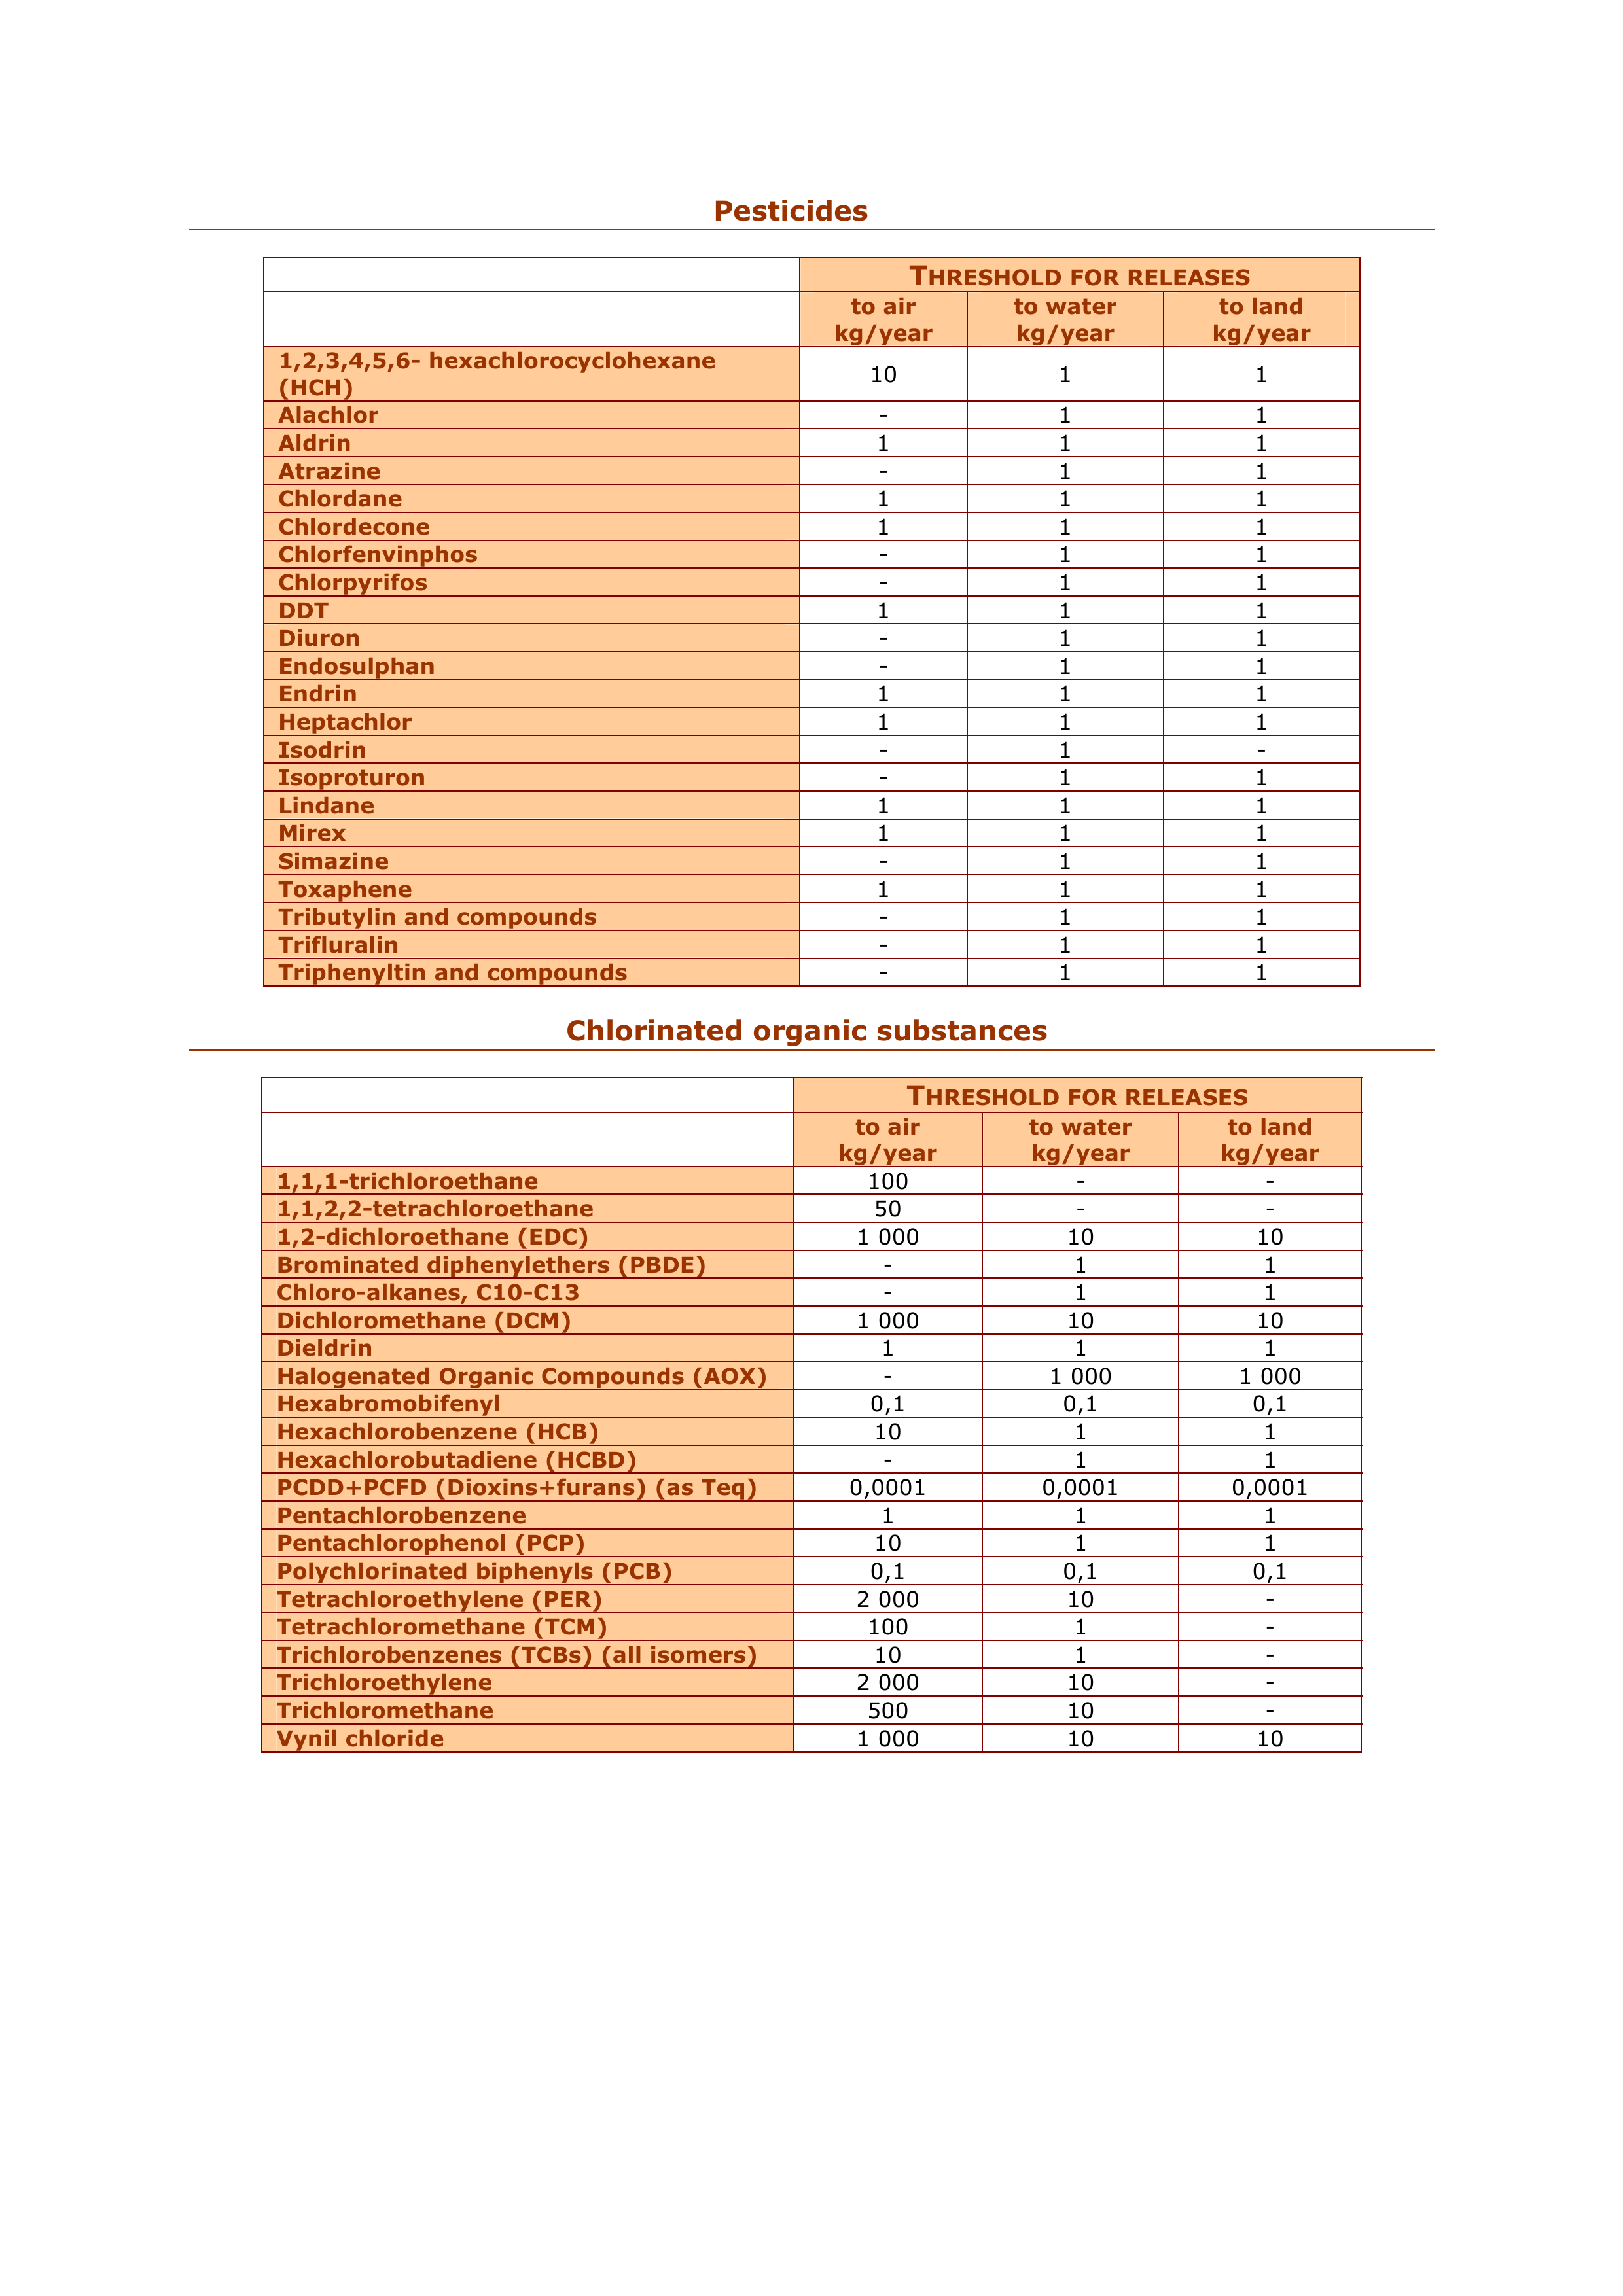table: (260, 253, 1363, 988), (260, 1074, 1363, 1754)
